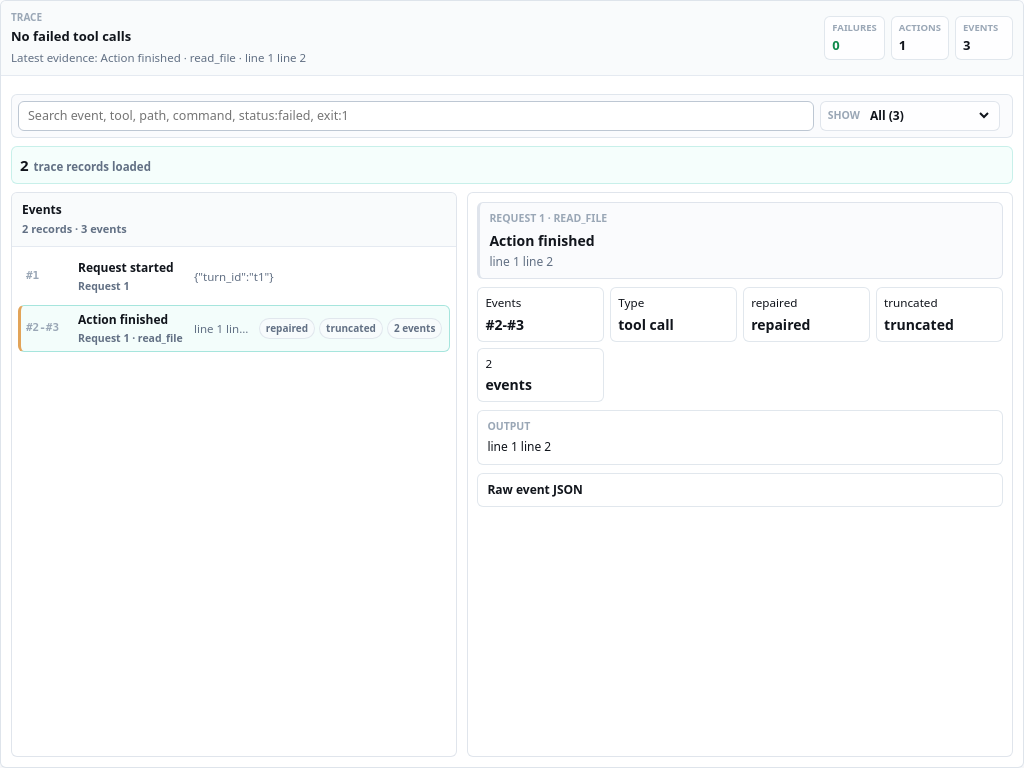
Test: SessionTracePanel › filters repair and truncation diagnostics as first-class trace evidence
The image size is (1024, 768).
Select "Repairs (1)" in the dropdown named "Trace category" at (929, 116), box [866,106,992,125]
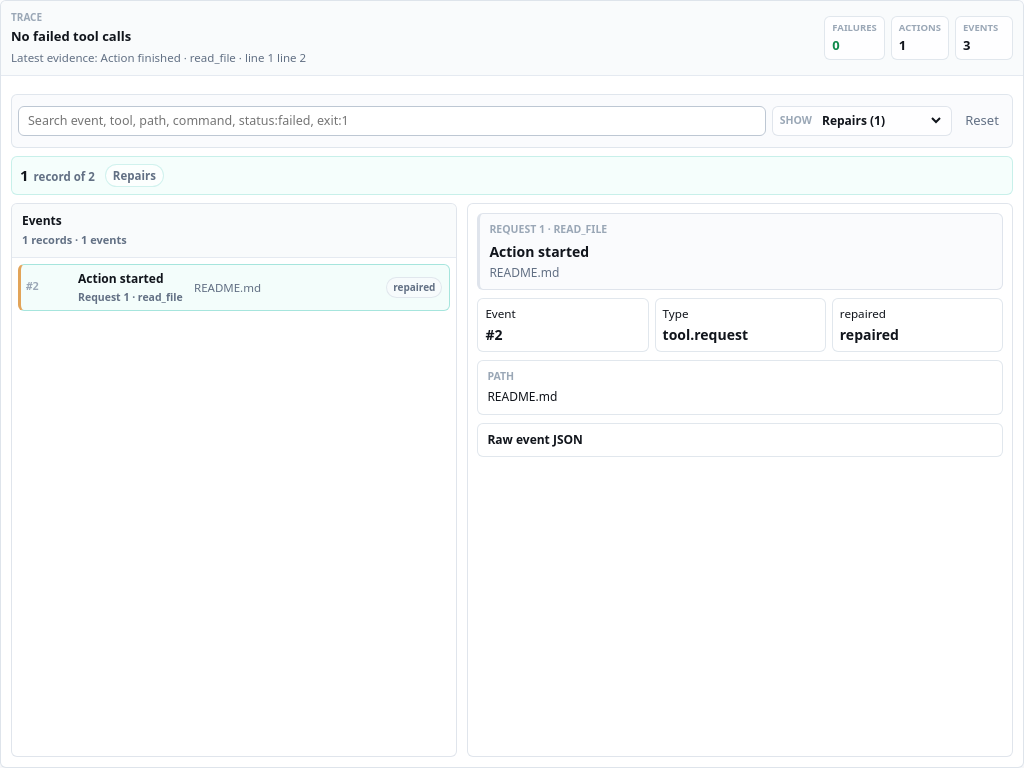
Expected: the list with test id "session-trace-event-list" shows "repaired", [18,264,450,311]
Result: the element with test id "session-trace-resultbar" shows "Repairs" at [113,168,156,183]
Click the button "Reset" at (982, 121), box [958,101,1006,141]
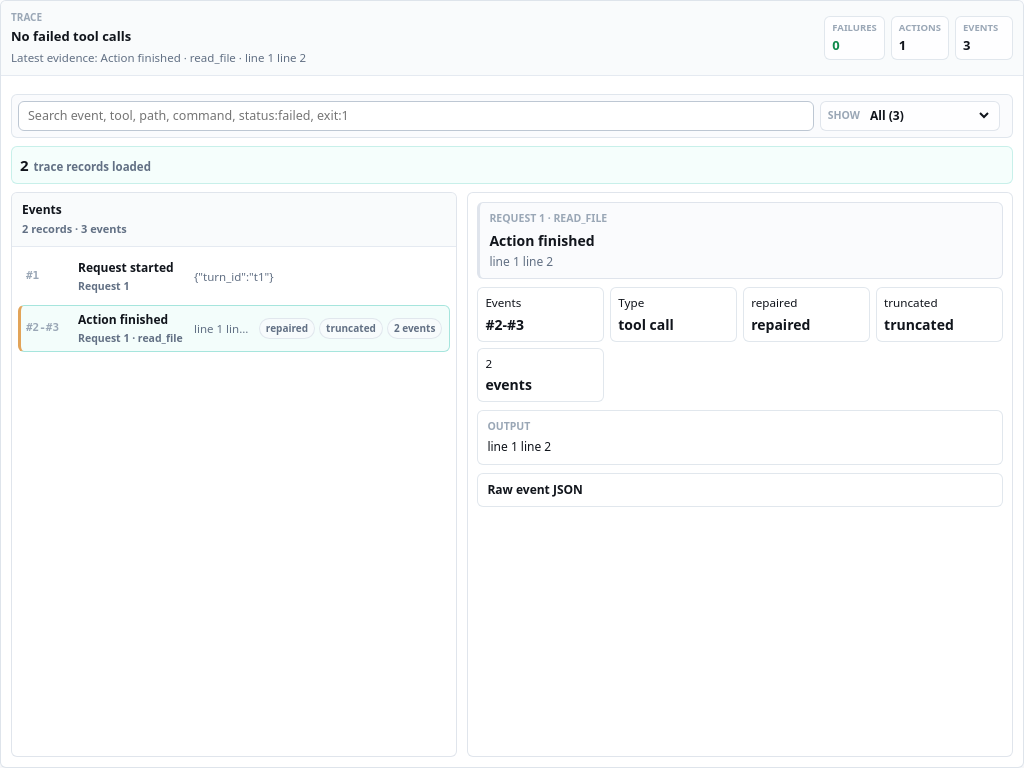
Select "Truncated (1)" in the dropdown named "Trace category" at (929, 116), box [866,106,992,125]
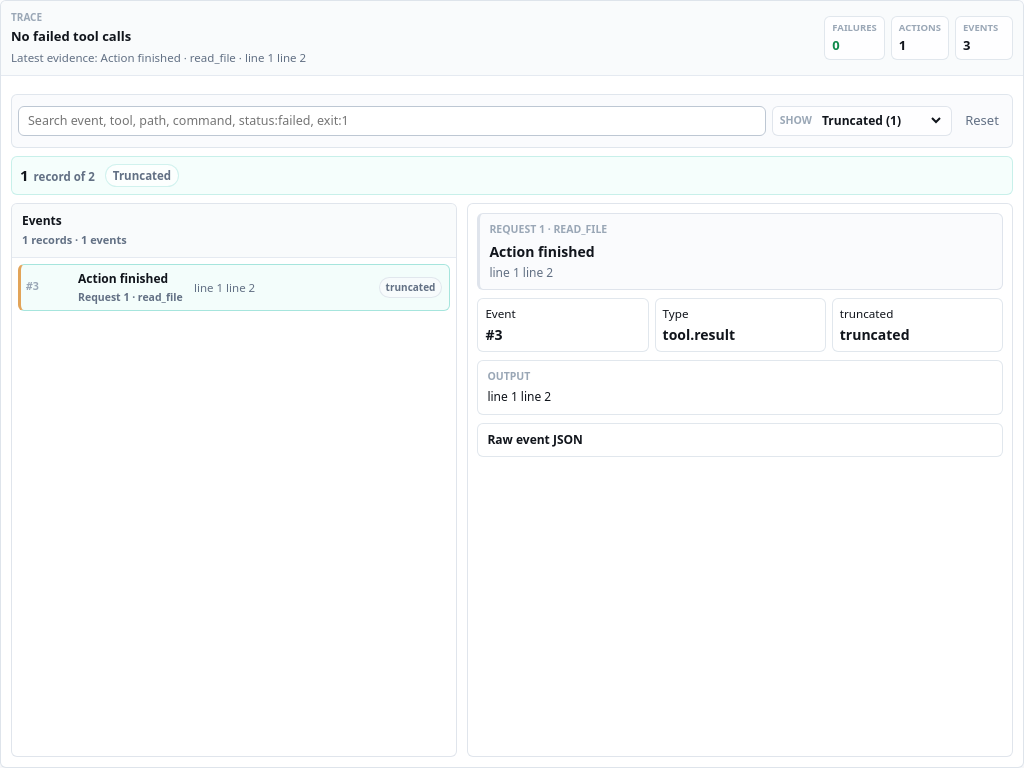
Result: the list with test id "session-trace-event-list" shows "truncated" at [18,264,450,311]
Result: the element with test id "session-trace-resultbar" shows "Truncated" at [113,168,171,183]
Result: the list with test id "session-trace-event-list" no longer shows "Request started" at [18,264,450,311]
